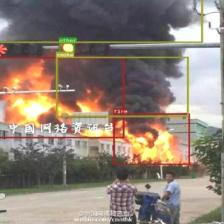fire: (0, 57, 124, 138), (113, 113, 190, 165)
smoke: (0, 0, 202, 43), (55, 57, 188, 116)
